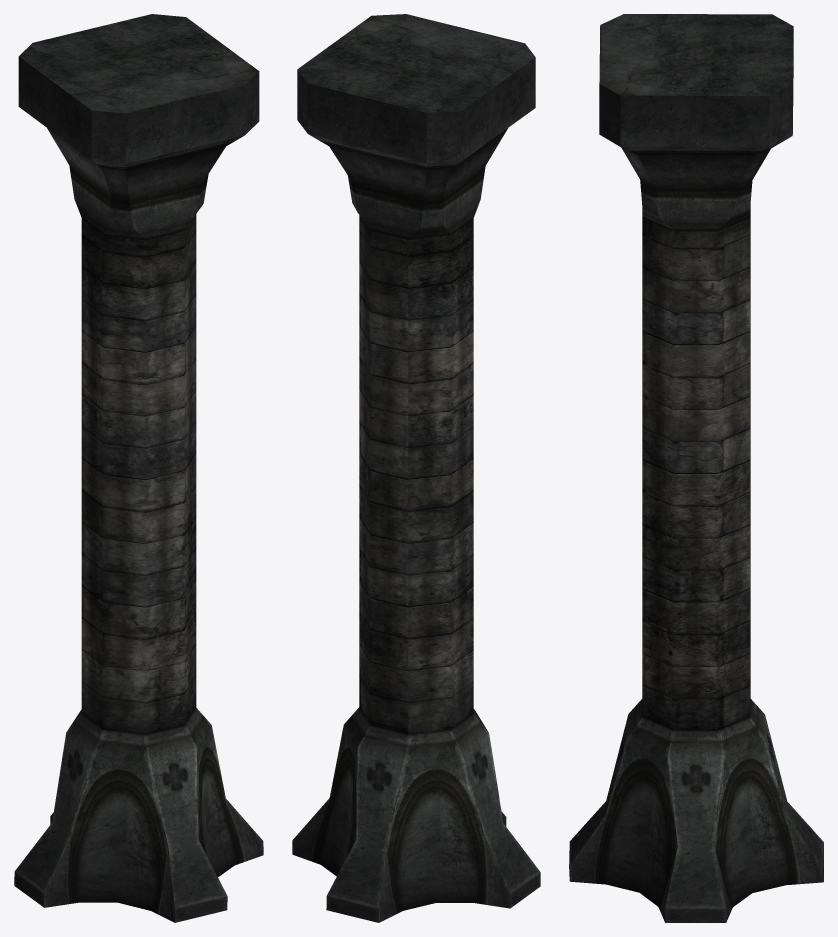
Rendered from tall_stone.dae.
3 views of the same model, side by side, from view 1: azimuth 30°, elevation 25°; view 2: azimuth 150°, elevation 25°; view 3: azimuth 270°, elevation 25° (orthographic).
Parts seen in each view (by area): view 1: pCylinder9; view 2: pCylinder9; view 3: pCylinder9.
Boxes of the visible parts, x1,y1,x2,y2 form: pCylinder9: [14, 14, 263, 922]; pCylinder9: [292, 14, 540, 922]; pCylinder9: [569, 14, 823, 922].
Size of what is drawn, in the model's own units: 2.27 by 8 by 2.27.
